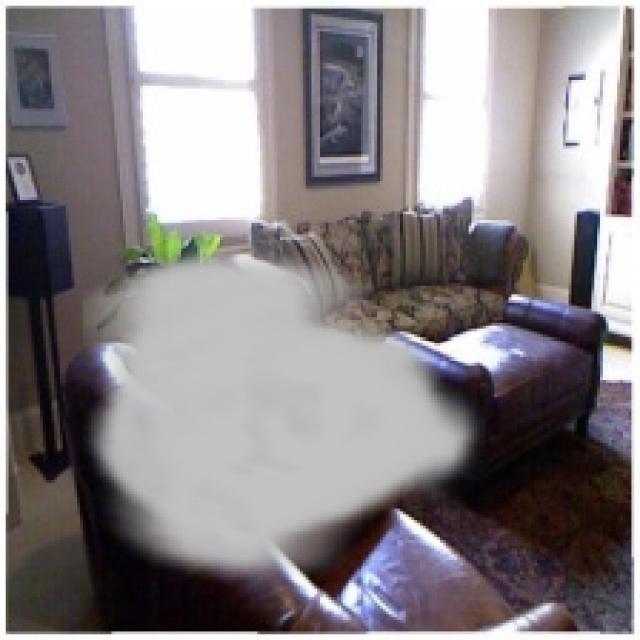Smoke: (83, 246, 486, 588)
